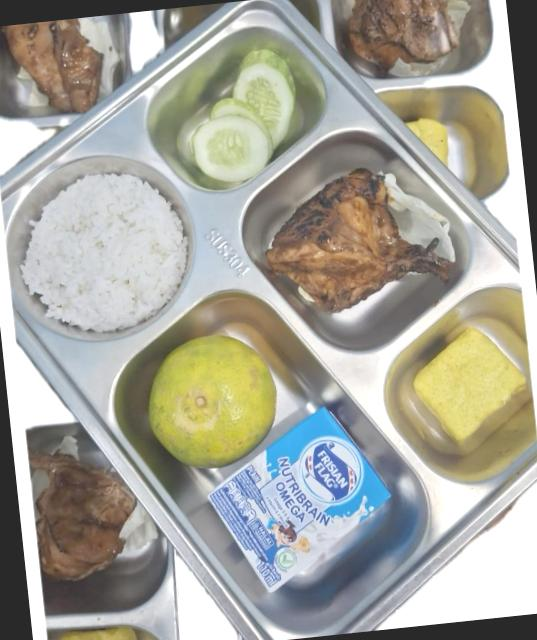ayam: (266, 169, 453, 312)
buah: (149, 336, 276, 468)
nasi: (21, 174, 188, 332)
sayur: (190, 50, 295, 183)
susu: (209, 408, 390, 591)
tahu: (414, 329, 526, 443)
